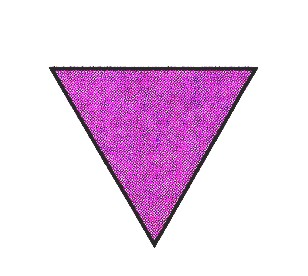triangulo: (48, 66, 259, 248)
